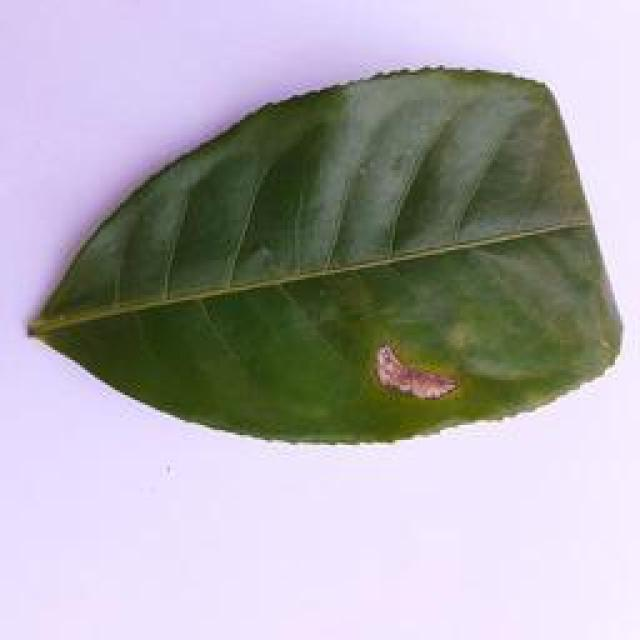Gray Blight: (26, 62, 626, 449)
